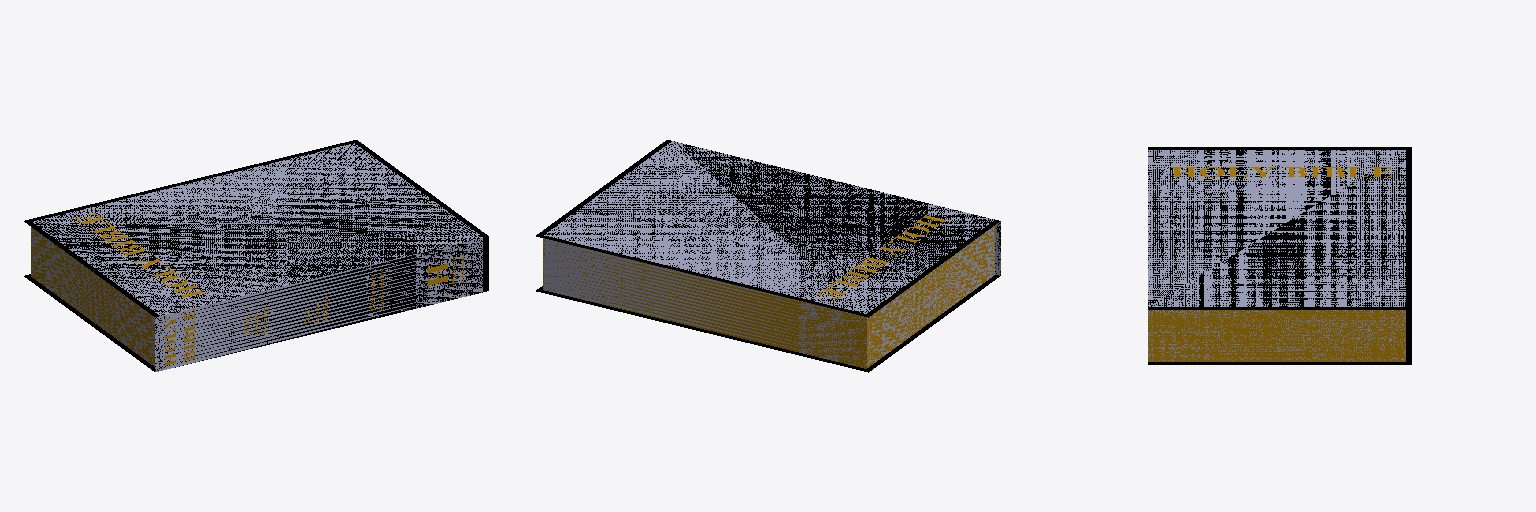
The picture shows the model from 3 angles: view 1: azimuth 30°, elevation 25°; view 2: azimuth 150°, elevation 25°; view 3: azimuth 270°, elevation 25°; orthographic projection.
Parts seen in each view (by area): view 1: SketchUp.001_ID837.001; view 2: SketchUp.001_ID837.001; view 3: SketchUp.001_ID837.001.
Boxes of the visible parts, box(x1,y1,x2,y2) form: SketchUp.001_ID837.001: box(24, 140, 488, 371); SketchUp.001_ID837.001: box(536, 140, 1000, 372); SketchUp.001_ID837.001: box(1148, 147, 1411, 364).
Bounding box in the file's own units: 0.7937 × 0.1252 × 0.5443.